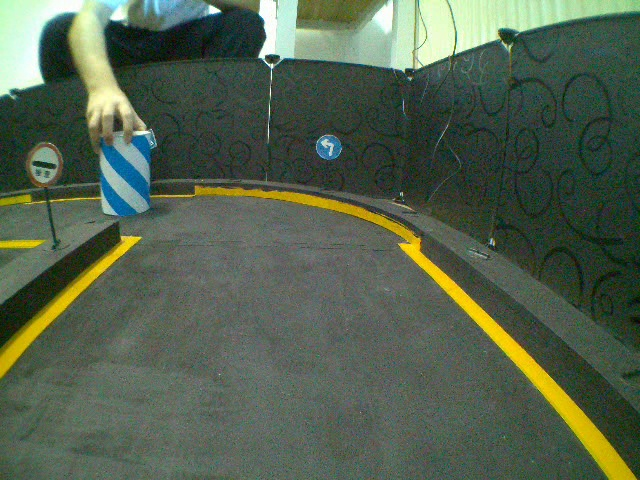bucket: (99, 129, 156, 217)
